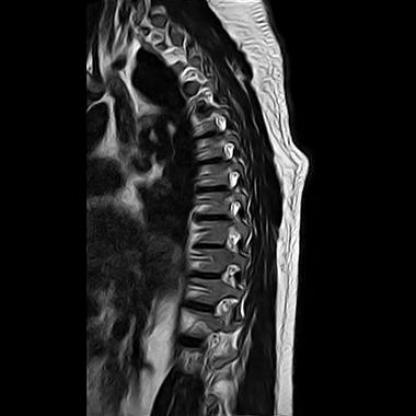Disc Protrusionrotation: (183, 90, 219, 115), (196, 126, 226, 145)
